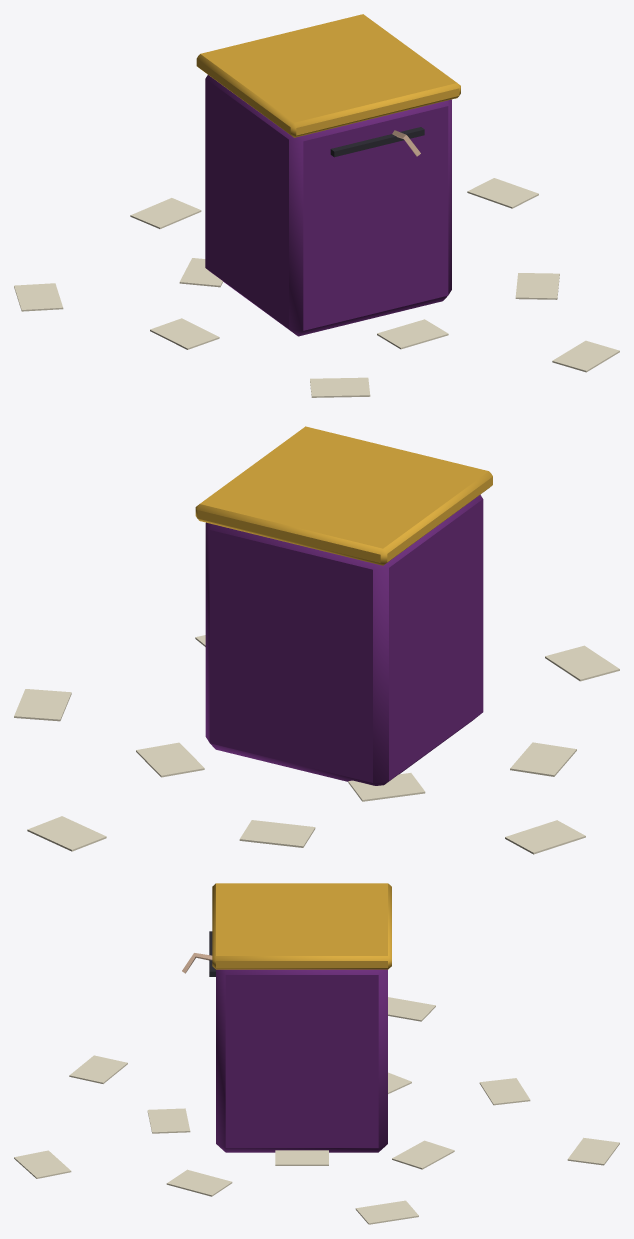
File: ballot_box.glb
3 views of the same model, one above another, from view 1: azimuth 30°, elevation 25°; view 2: azimuth 150°, elevation 25°; view 3: azimuth 270°, elevation 25° (orthographic). The views are drawn at different scales.
Parts seen in each view (by area): view 1: ballot_box; view 2: ballot_box; view 3: ballot_box.
Part boxes in pixels (left/top/right/bottom): ballot_box: left=14, top=14, right=619, bottom=397; ballot_box: left=14, top=426, right=619, bottom=854; ballot_box: left=14, top=883, right=619, bottom=1224.
Size of the model in its own units: 2.8 by 1.16 by 3.17.
